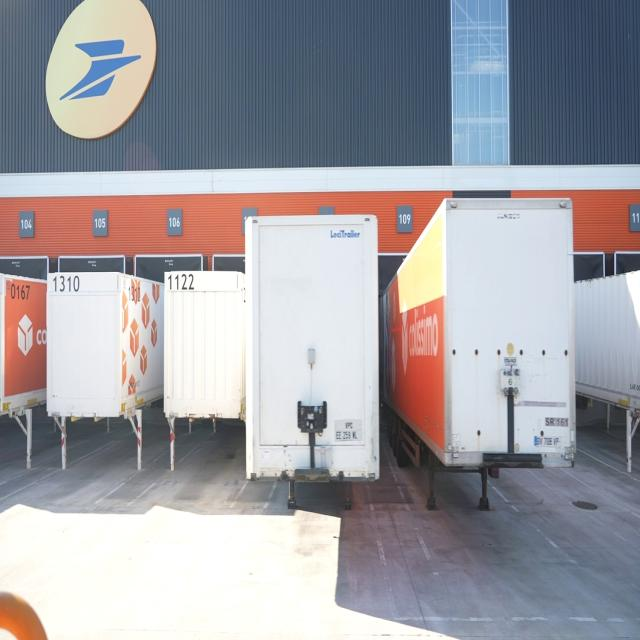Code: (48, 270, 84, 299), (166, 270, 194, 295), (8, 279, 33, 305)
